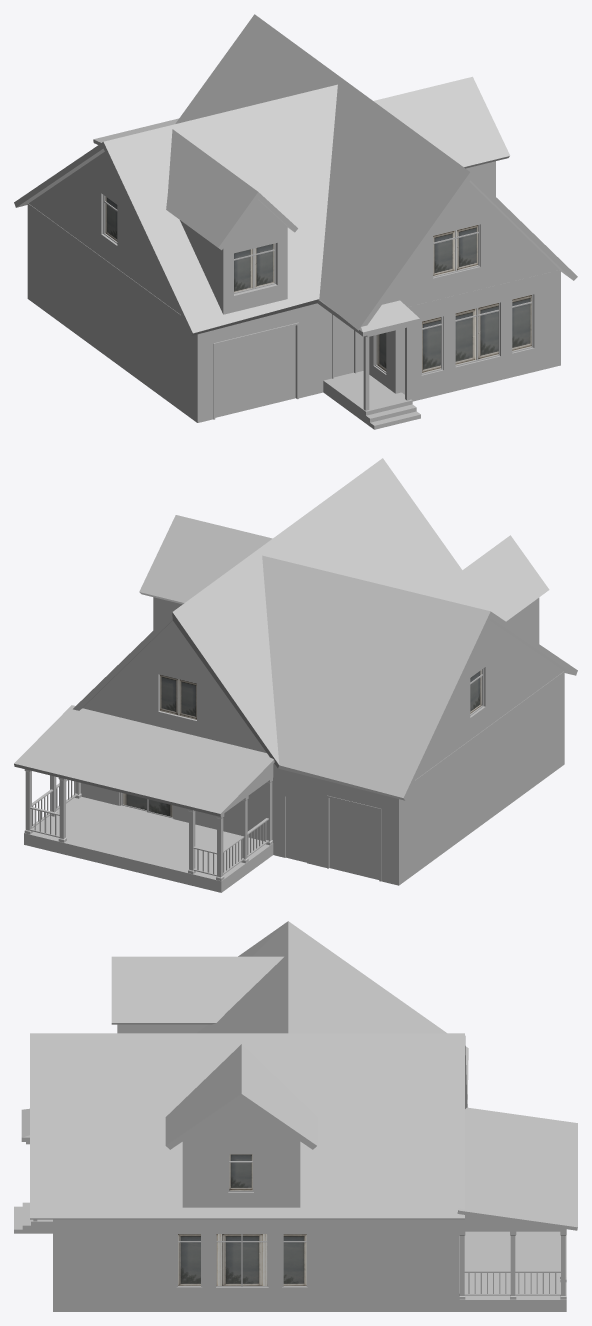
Rendered from house_simple.fbx.
3 views of the same model, one above another, from view 1: azimuth 30°, elevation 25°; view 2: azimuth 150°, elevation 25°; view 3: azimuth 270°, elevation 25° (orthographic). The views are drawn at different scales.
Parts seen in each view (by area): view 1: House; view 2: House; view 3: House.
Part boxes in pixels (x1,y1,x2,y2): House: [14, 14, 577, 429]; House: [14, 458, 577, 892]; House: [14, 921, 577, 1311].
Bounding box in the file's own units: 14.42 × 9.03 × 20.17.
